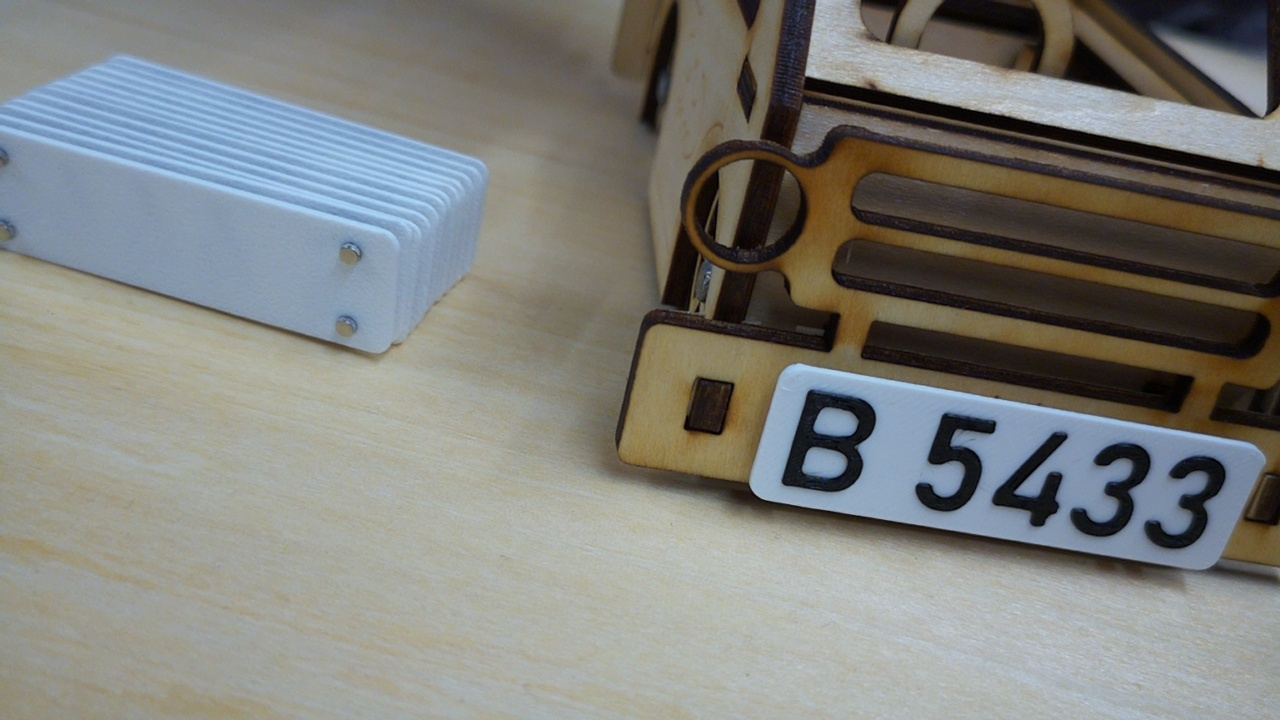license_plate: (746, 357, 1270, 571)
